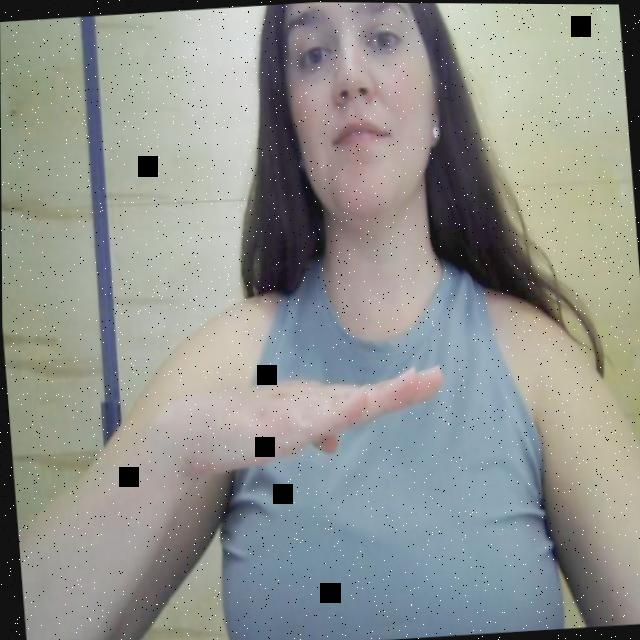Paper: (94, 240, 481, 544)
